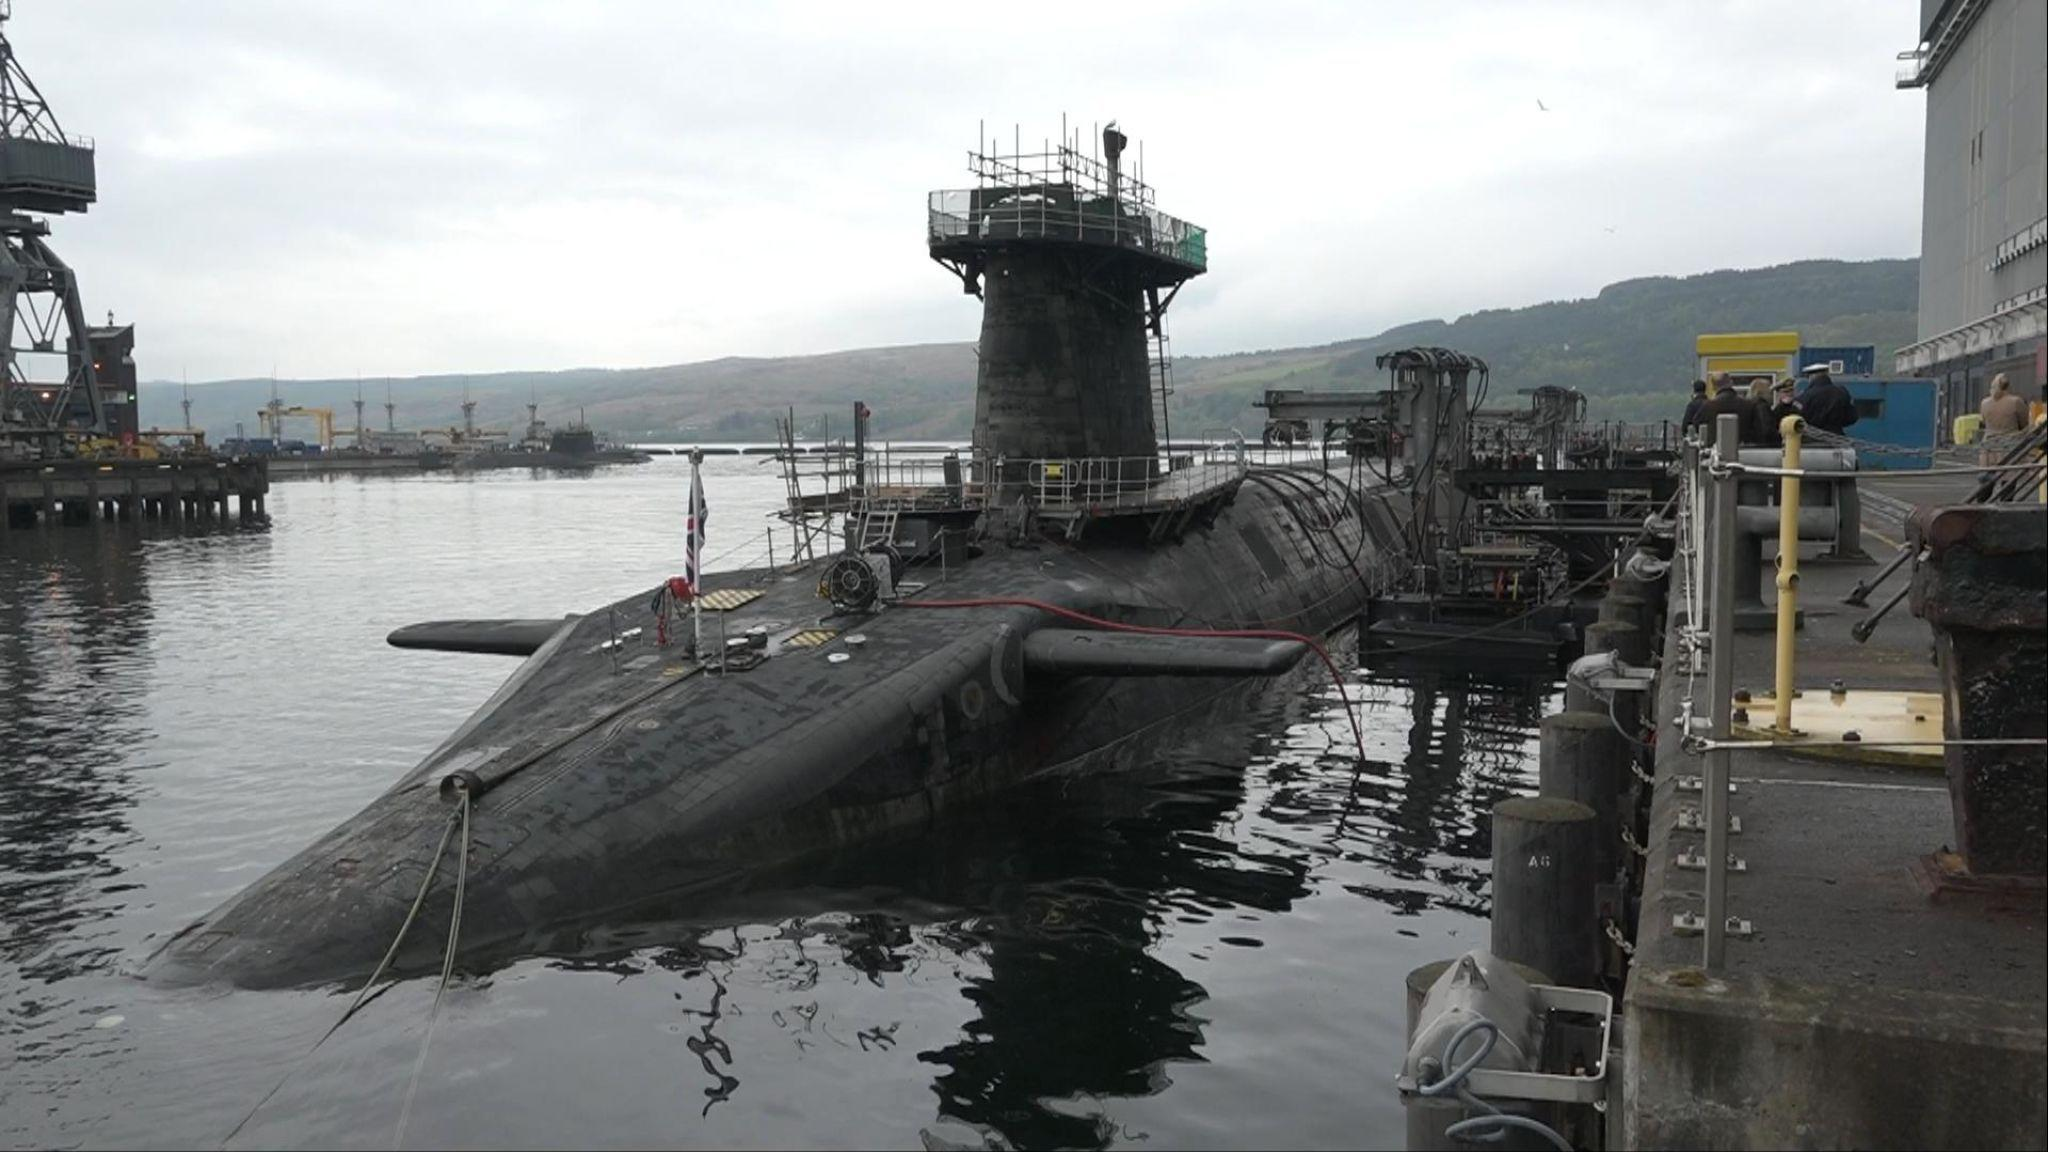Submarine: (87, 60, 1477, 1112)
